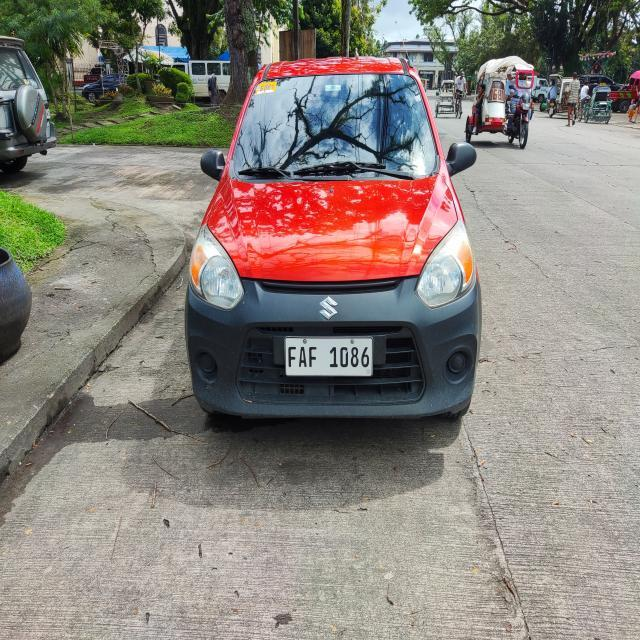LicensePlate: (282, 329, 378, 385)
